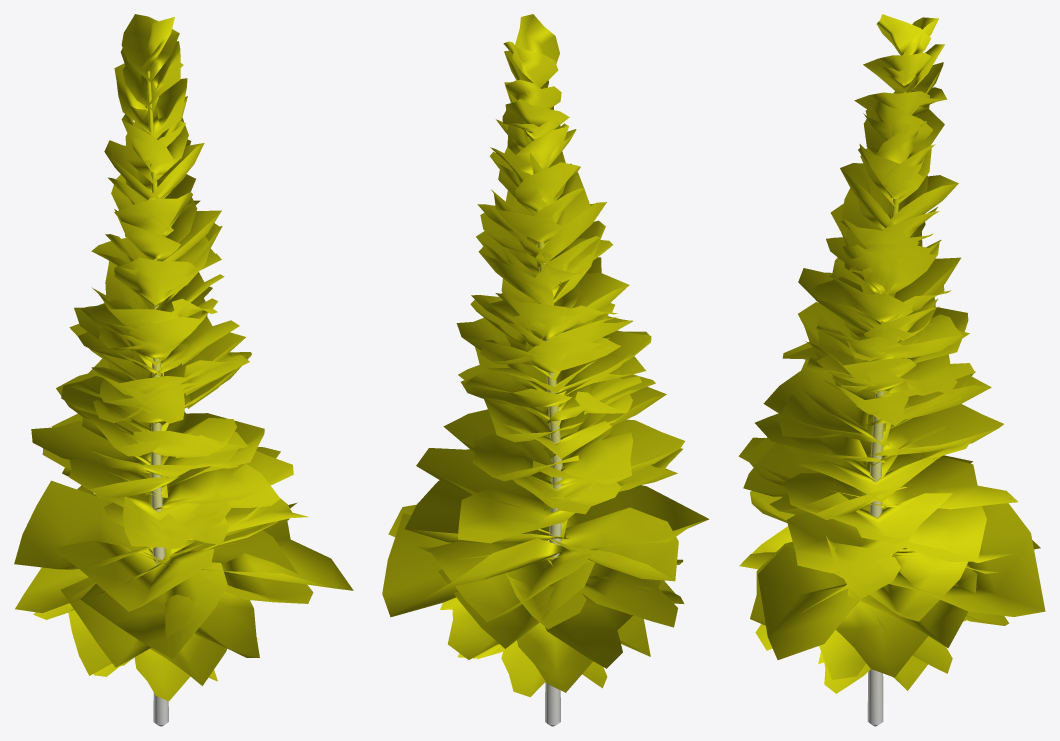
The model's file is RedFir2.fbx.
3 renders of one model, left to right at view 1: azimuth 30°, elevation 25°; view 2: azimuth 150°, elevation 25°; view 3: azimuth 270°, elevation 25°, orthographic. The views are drawn at different scales.
Visible parts, largest first — view 1: RedFir2_LOD0; view 2: RedFir2_LOD0; view 3: RedFir2_LOD0.
Boxes of the visible parts, <box> form: RedFir2_LOD0: <box>14,14,353,726</box>; RedFir2_LOD0: <box>382,14,709,726</box>; RedFir2_LOD0: <box>738,14,1045,726</box>.
Size of what is drawn, in the model's own units: 170 by 406 by 157.
